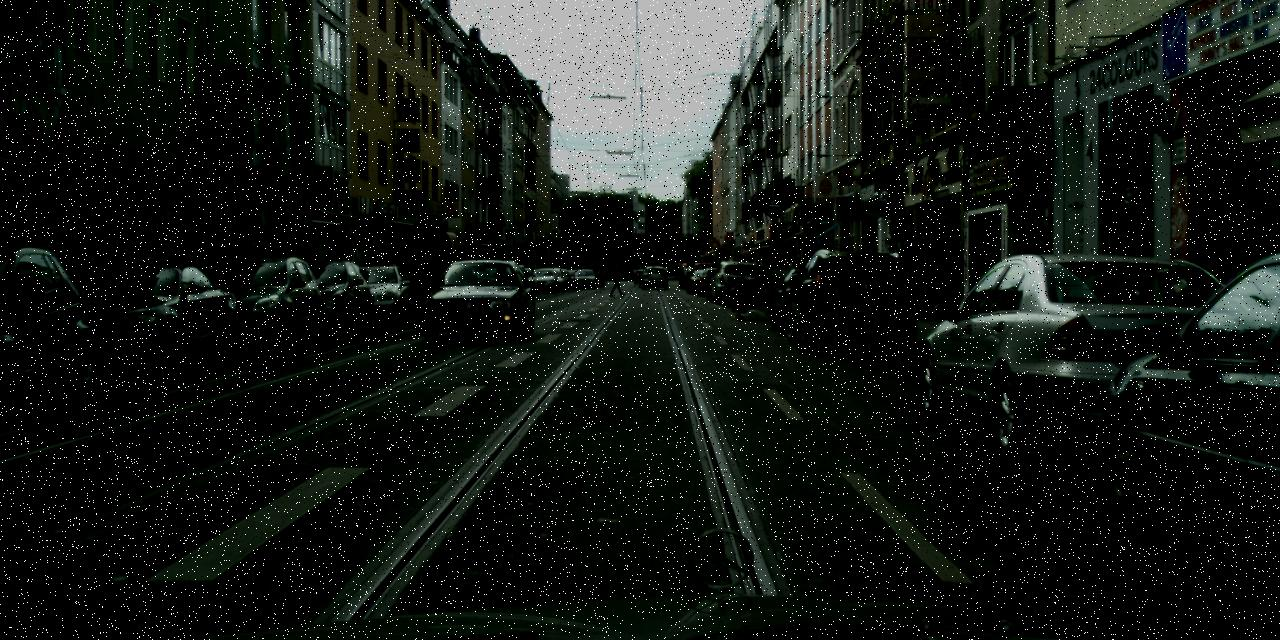ped: (786, 255, 803, 298), (610, 260, 625, 296), (758, 259, 770, 290), (598, 264, 606, 285), (602, 266, 607, 279)
